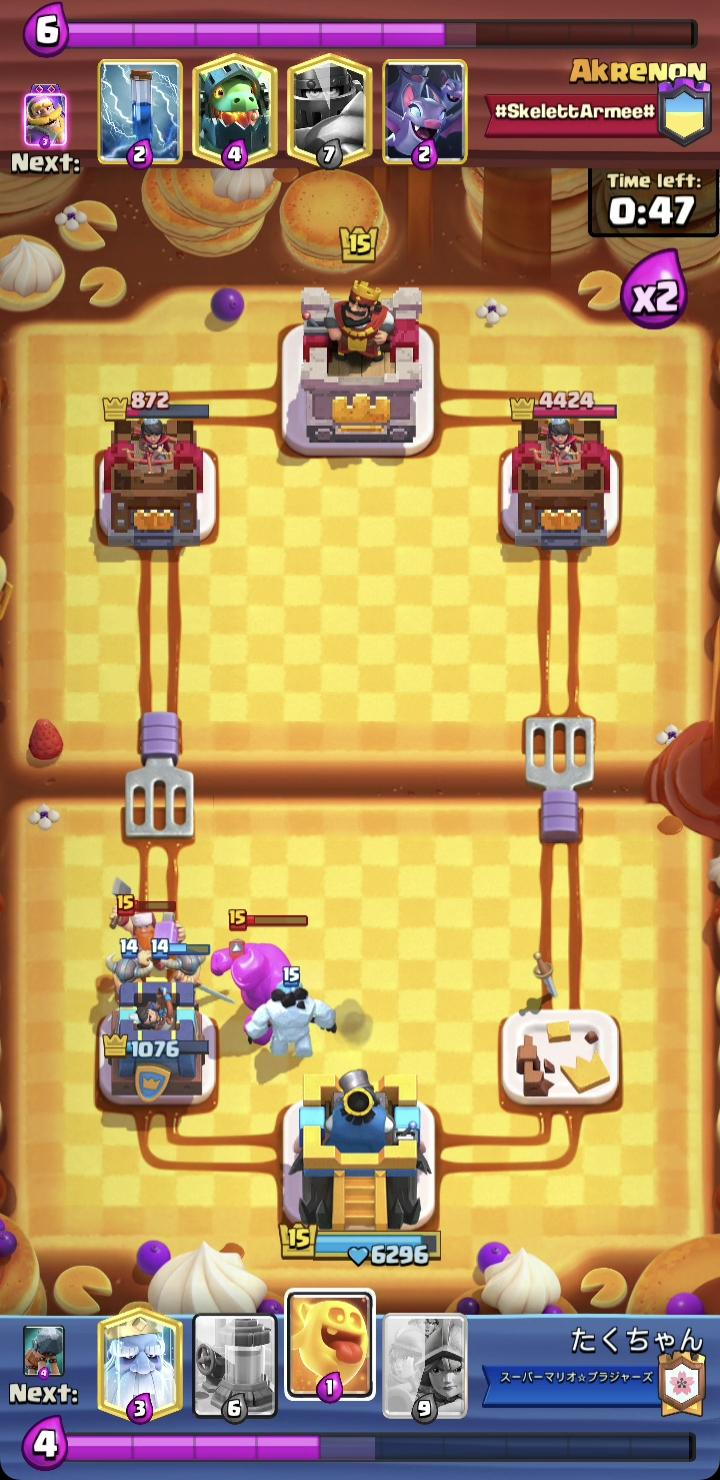ally_elite_barbarian: (151, 936, 228, 1020), (103, 936, 160, 1015)
ally_ice_golem: (241, 961, 337, 1060)
enemy_elixirgolem: (212, 910, 309, 1045)
enemy_lumberjack: (108, 874, 197, 976)
